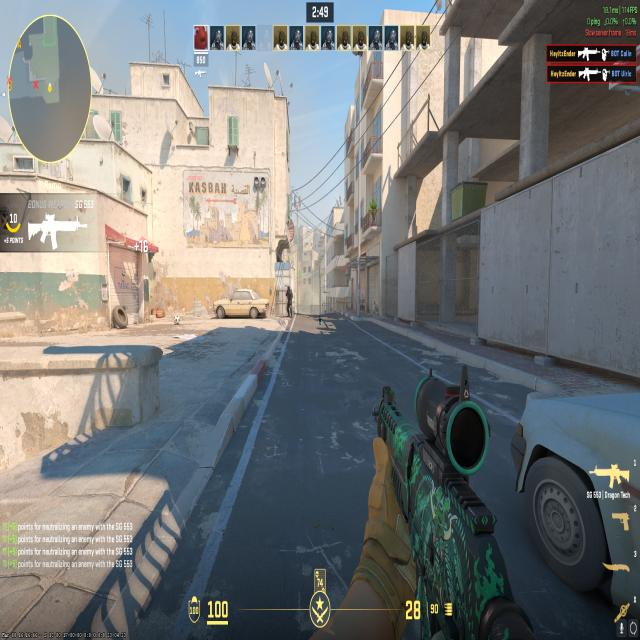ct: (284, 281, 294, 320)
